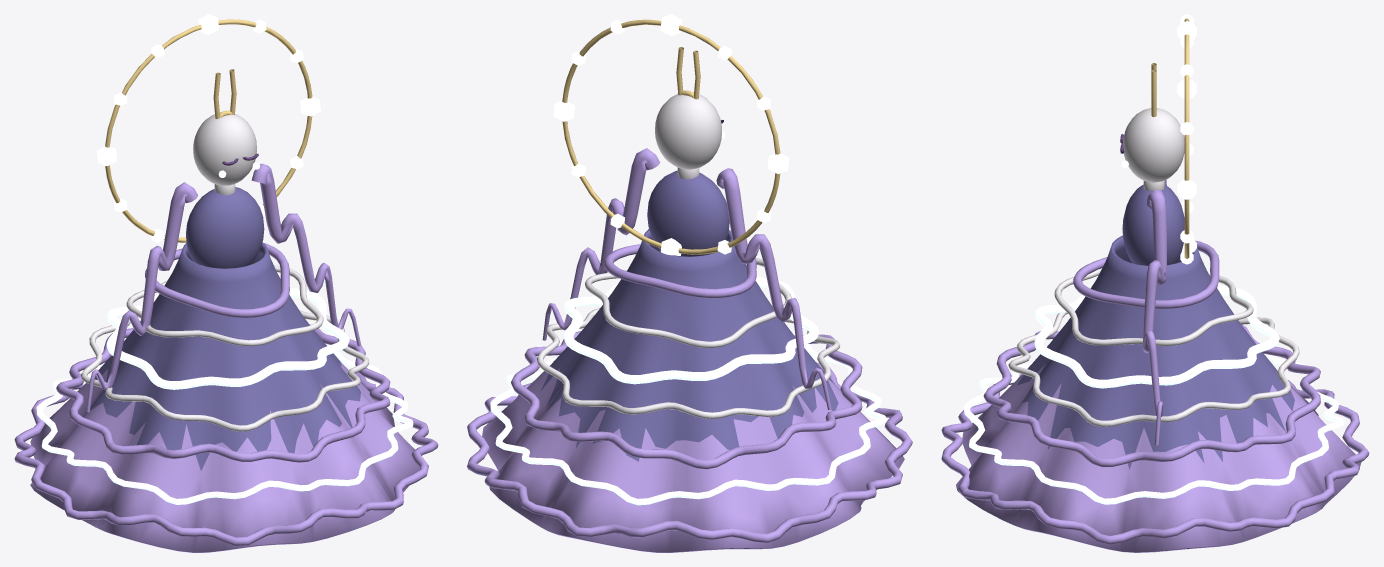
Rendered from siren.glb.
The picture shows the model from 3 angles, left to right: view 1: azimuth 30°, elevation 25°; view 2: azimuth 150°, elevation 25°; view 3: azimuth 270°, elevation 25°; orthographic projection. The views are drawn at different scales.
Visible parts, largest first — view 1: b_siren; view 2: b_siren; view 3: b_siren.
Boxes of the visible parts, <box> form: b_siren: <box>14,14,438,552</box>; b_siren: <box>467,14,912,552</box>; b_siren: <box>941,14,1369,552</box>.
Bounding box in the file's own units: 3.25 × 3.82 × 3.25.
